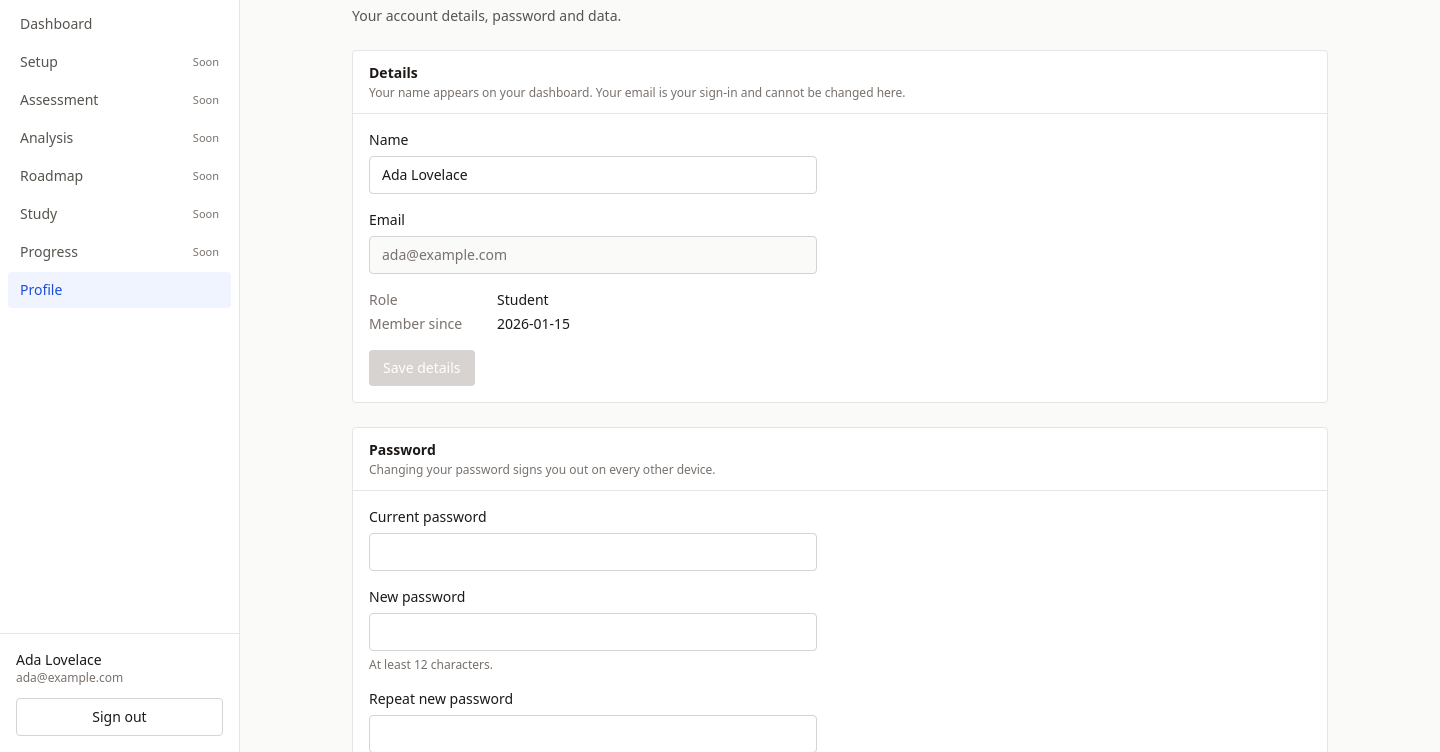
Test: ProfilePage › password › checks the repeat and the length before sending anything
This screenshot has width=1440, height=752.
Expected: the button "Save details" is shown, [369,350,474,386]
Step 1. Type "correct-horse-battery" into the password field labelled "Current password" → (593, 552), box [369,533,817,571]
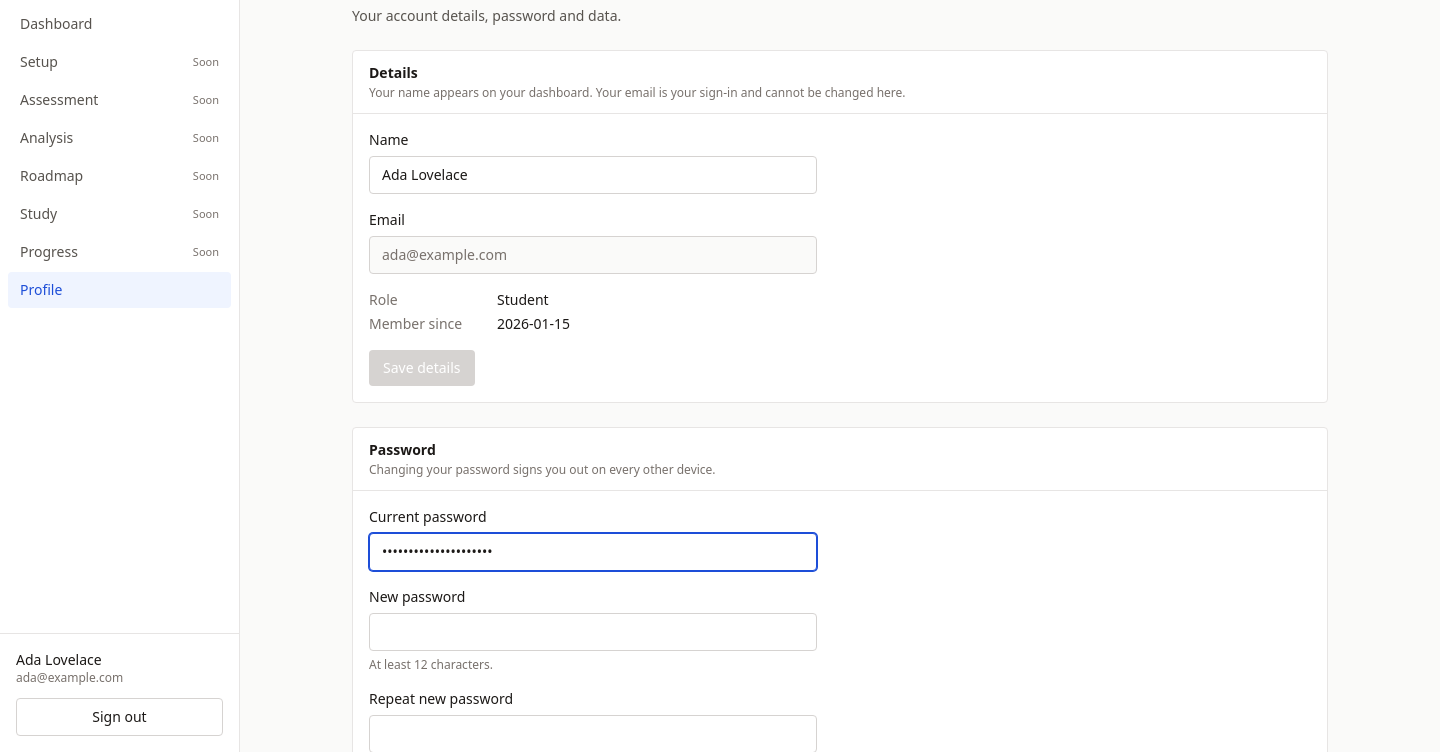
Step 2. Type "short" into the password field labelled "New password" → (593, 632), box [369,613,817,651]
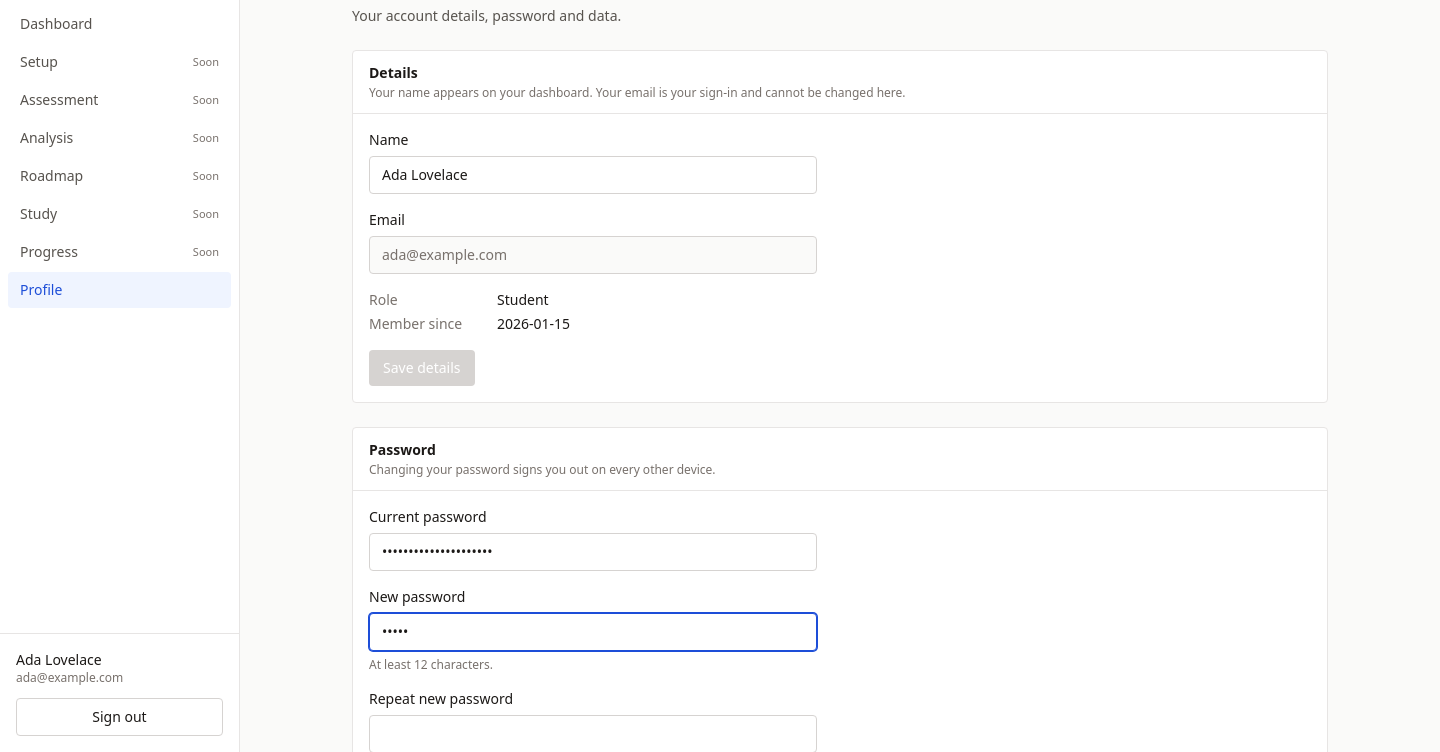
Step 3. Type "different" into the password field labelled "Repeat new password" → (593, 734), box [369,715,817,751]
(page scrolled)
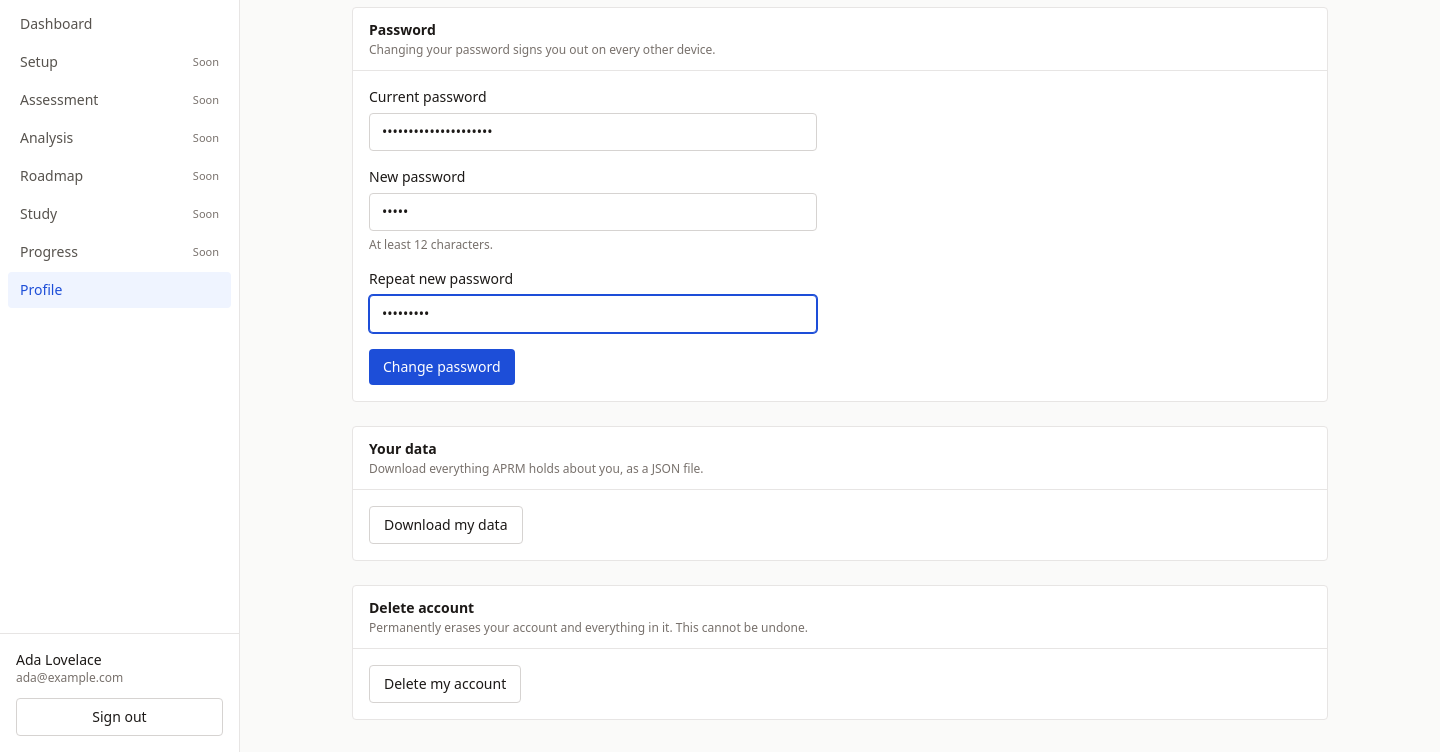
Step 4. Click the button "Change password" → (442, 367), box [369,349,515,385]
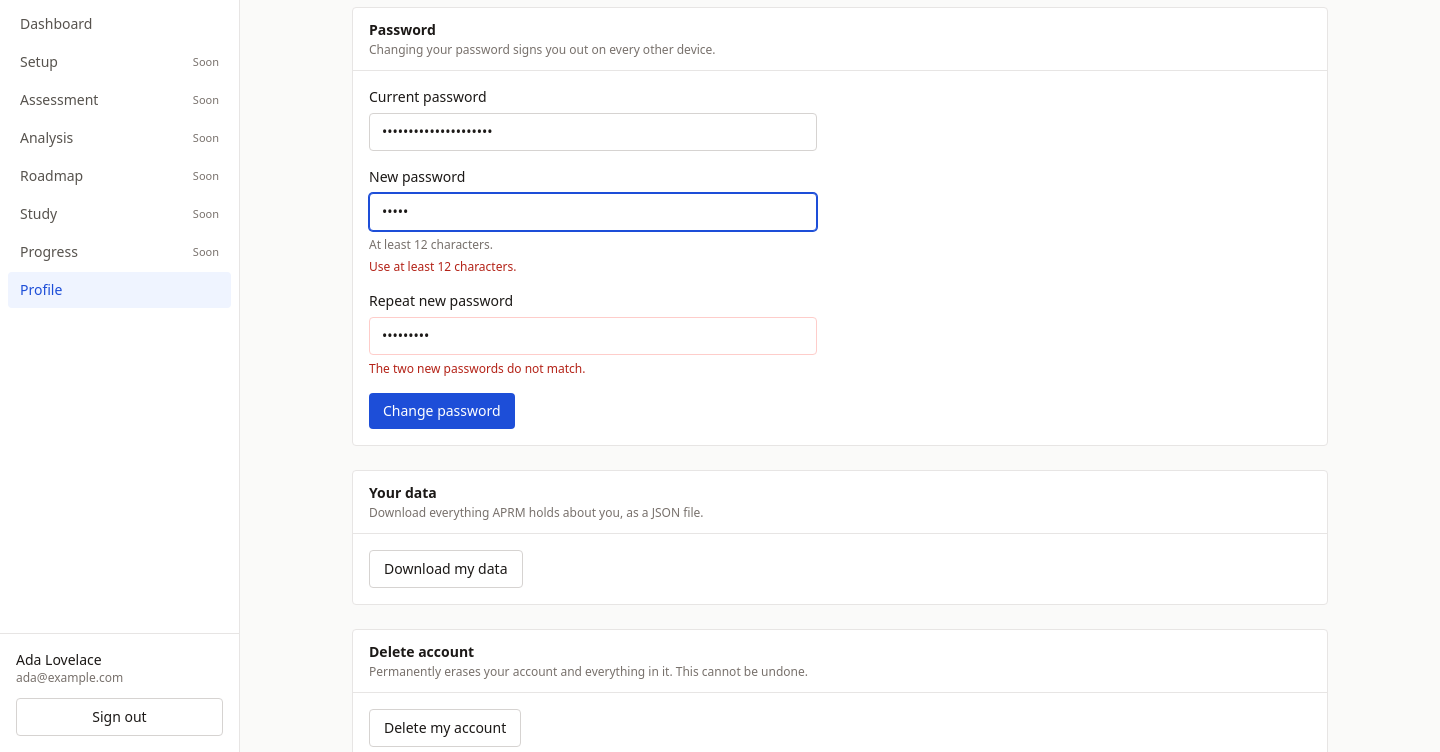
Expected: the text "Use at least 12 characters." is shown, [369,258,516,275]
Expected: the text "The two new passwords do not match." is shown, [369,360,586,377]
